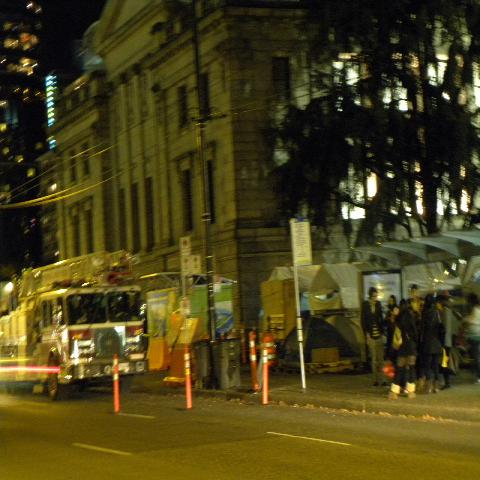truck: (2, 252, 144, 400)
